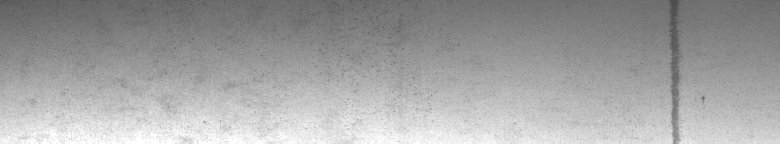hd: (664, 4, 705, 136)
